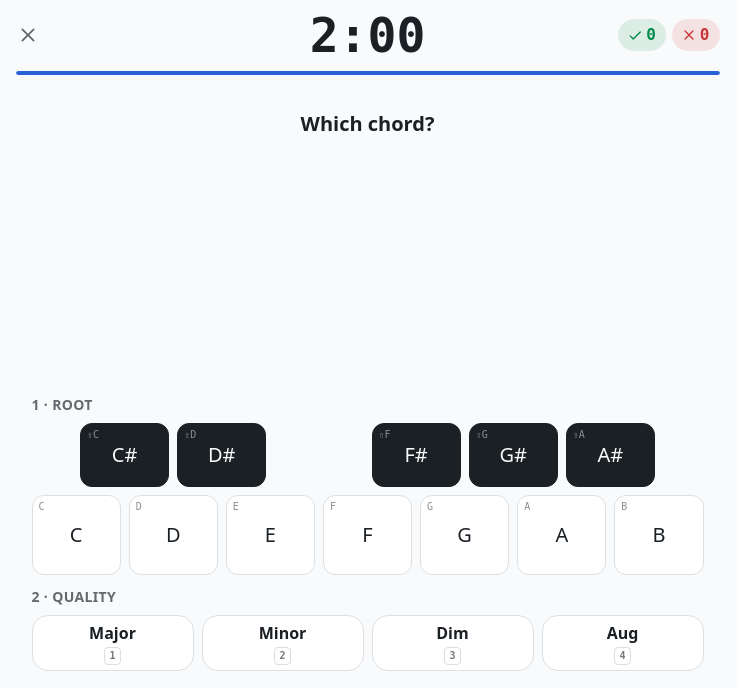
Test: Chords RunPhase, by name › takes the root, then the quality, then shows the symbol and name and plays the chord
Click the button named "Aa": {"x": 562, "y": 535} [517, 495, 606, 575]
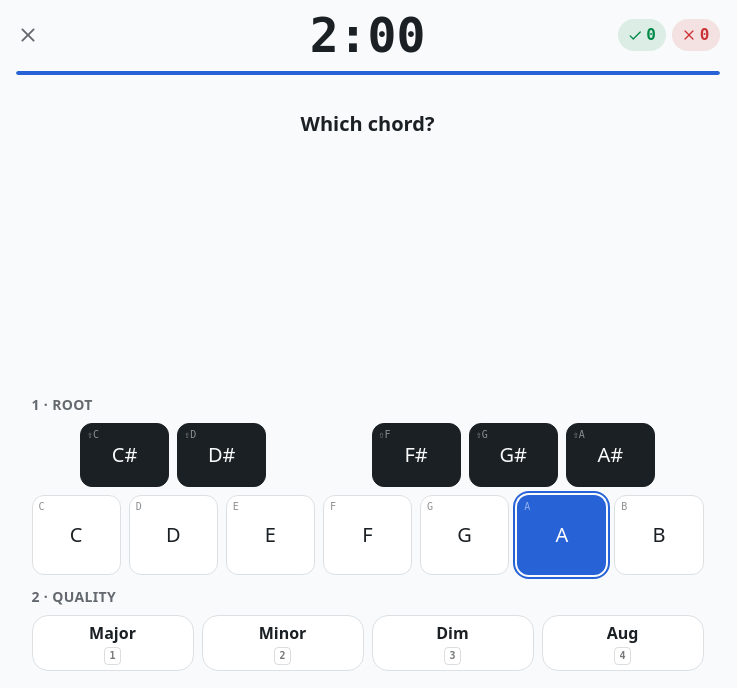
Expected: the button named "Aa" is pressed, [517, 495, 606, 575]
Click the button "Minor 2": {"x": 282, "y": 643} [202, 615, 364, 671]
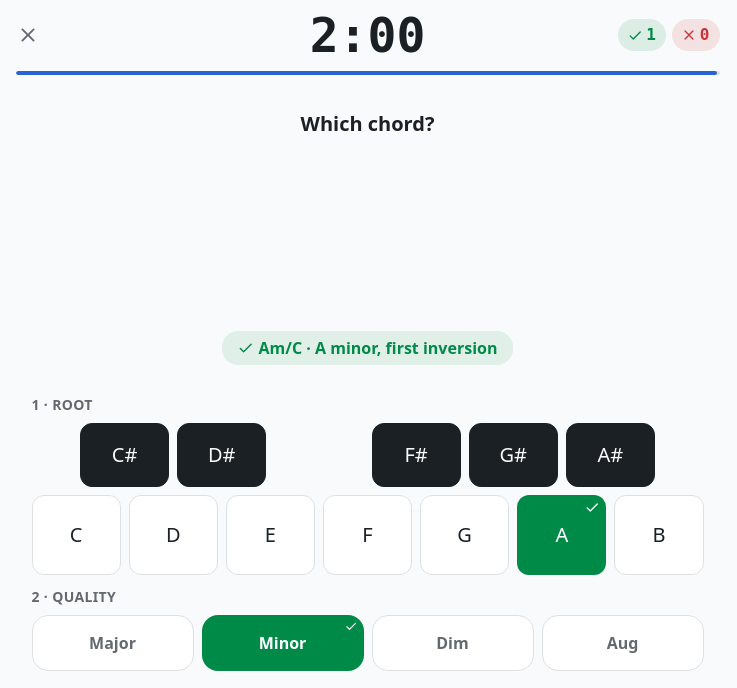
Expected: the message reads "Am/C · A minor, first inversion", [258, 337, 497, 359]
